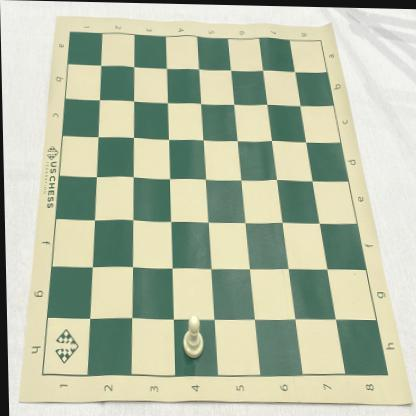white-pawn: (181, 313, 203, 359)
